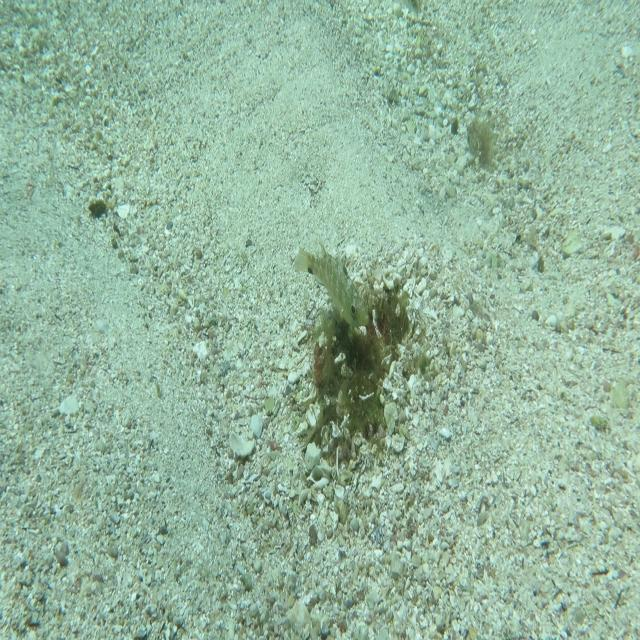FAN: (294, 239, 371, 328)
core_nest: (358, 298, 398, 337)
female: (410, 1, 425, 19)
nest: (291, 256, 421, 469)
vegetation: (468, 110, 500, 179), (88, 196, 108, 220)
